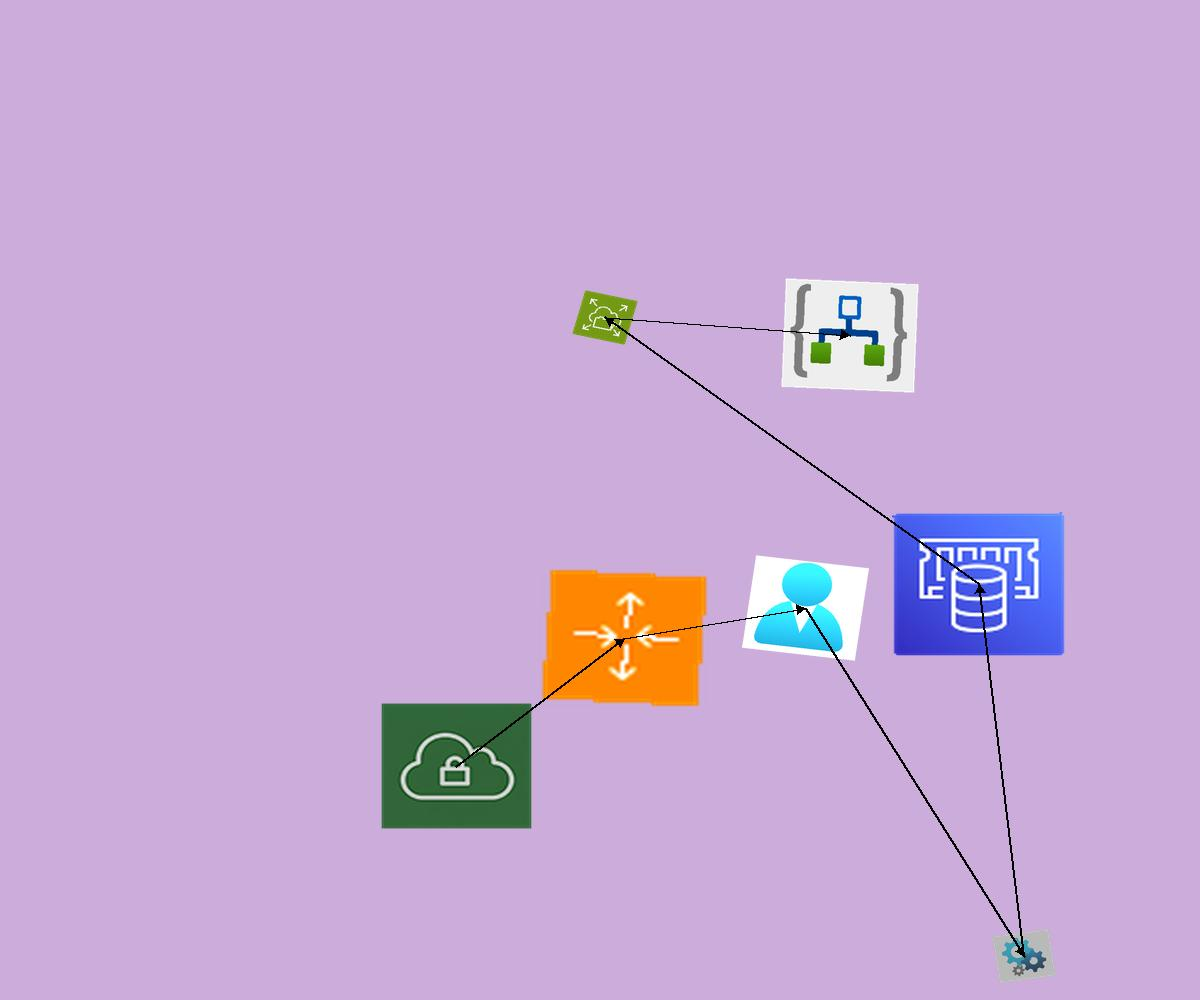AWS-EFS: (572, 290, 638, 345)
AWS-ElastiCache: (892, 512, 1066, 657)
AWS-Private_vpc: (380, 702, 533, 830)
AWS-Scaling-group: (539, 567, 710, 709)
Azure_api: (992, 929, 1056, 983)
Azure_integration-204-Logic-Apps: (781, 278, 919, 393)
Azure_users: (742, 555, 869, 661)
